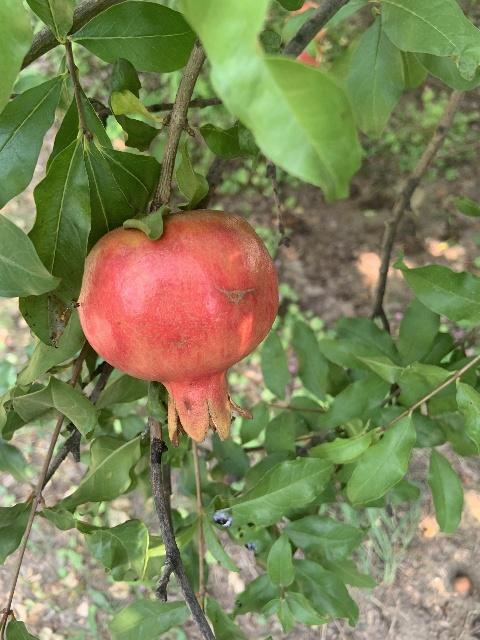ripe: (77, 210, 279, 444)
